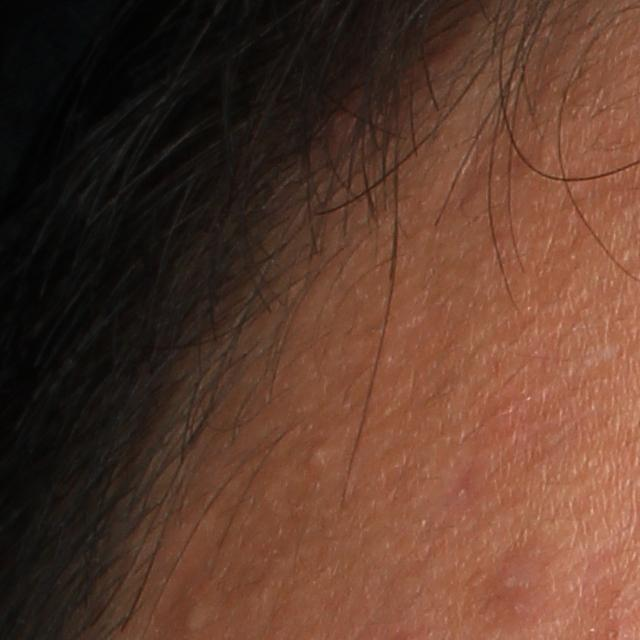comedo: (178, 598, 212, 633), (305, 439, 330, 466)
